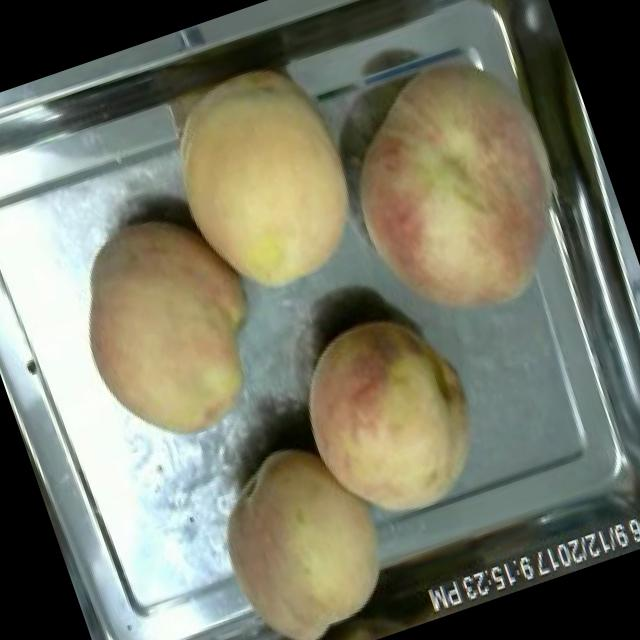Fruit: (308, 26, 610, 352), (138, 36, 392, 322), (45, 186, 296, 469), (272, 290, 506, 546), (189, 419, 417, 640)
